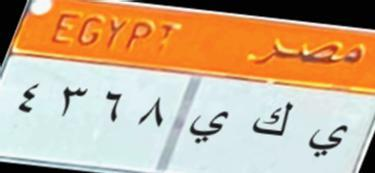3: (54, 79, 93, 123)
4: (12, 78, 43, 124)
6: (102, 86, 126, 127)
8: (136, 91, 168, 133)
kaaf: (251, 94, 294, 149)
yaa: (303, 116, 348, 162), (188, 106, 230, 150)
